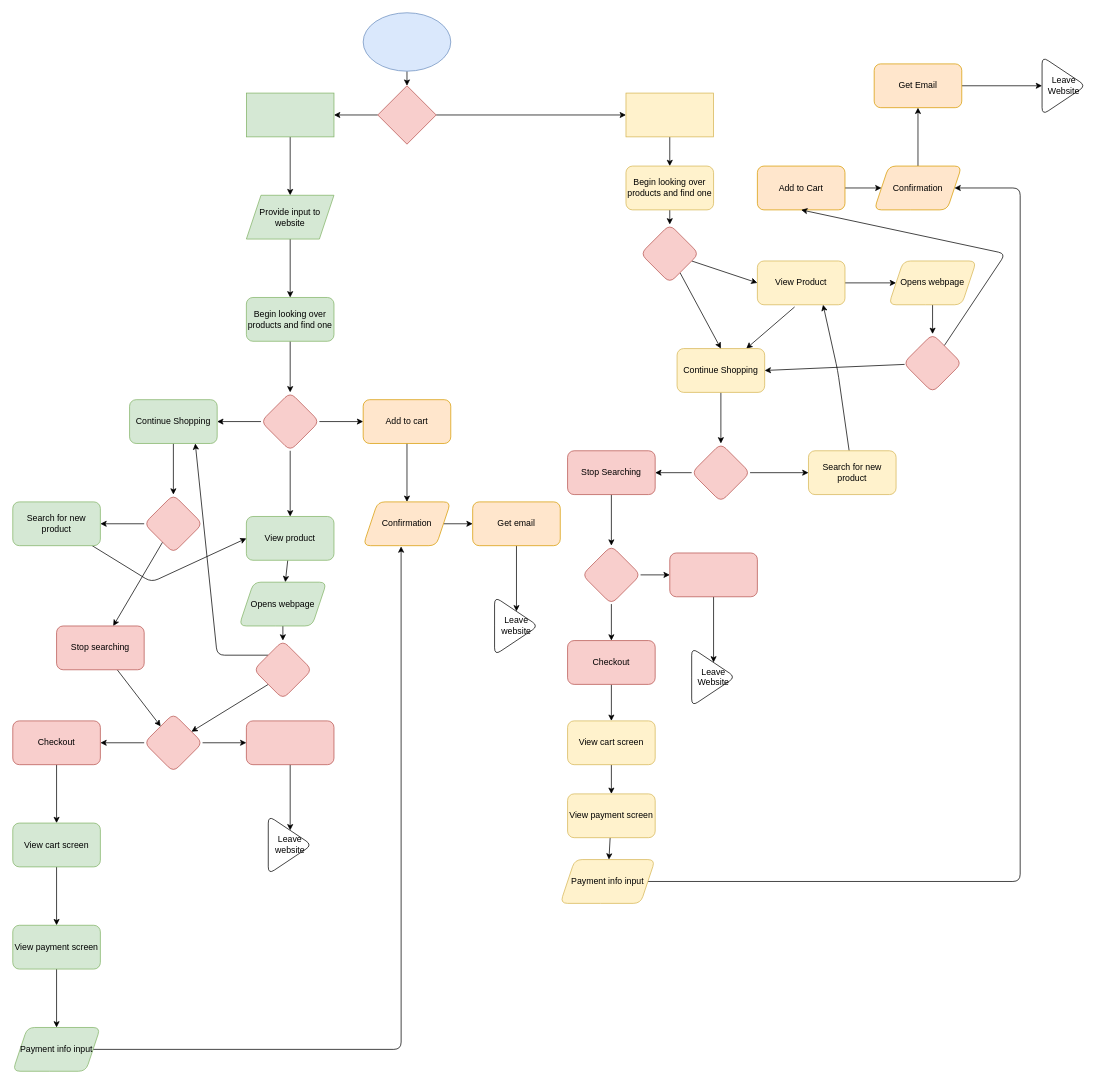
This 1099x1084 diagram has some shape labels left out. Here are the shapes that lost their labels. From the top down, the centre of each, then its label:
At (x=406, y=41): "User Enters".
At (x=290, y=114): "Search for Product".
At (x=669, y=114): "Explore products on home page".
At (x=713, y=574): "Don't check out".
At (x=290, y=742): "Don't checkout".
